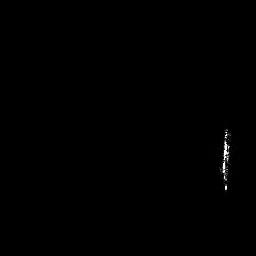ship: (220, 123, 231, 195)
